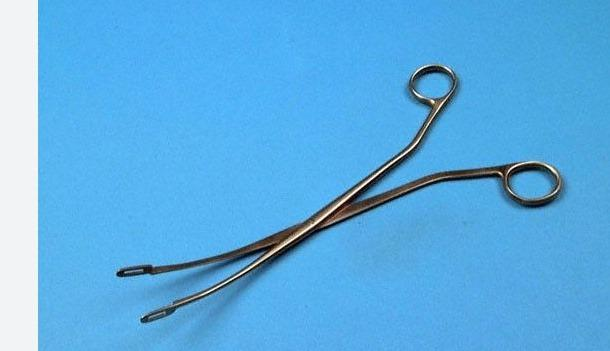Desjardin Forceps: (113, 59, 566, 327)
